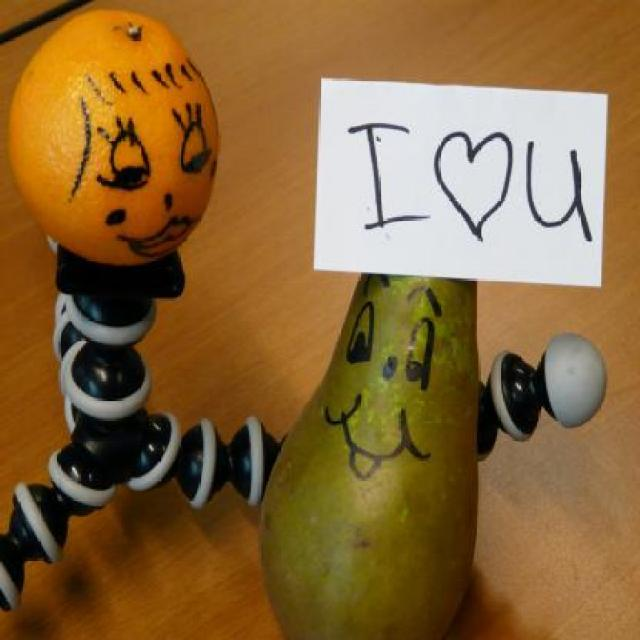Pear: (252, 255, 492, 640)
